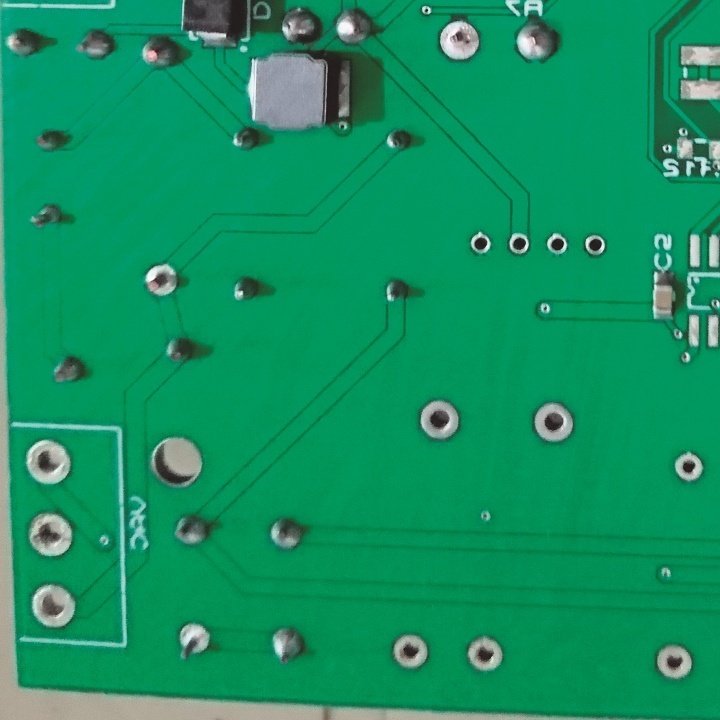F: (22, 435, 78, 492), (27, 578, 81, 633), (24, 509, 78, 561), (528, 398, 578, 446), (436, 16, 484, 64), (416, 397, 464, 444), (170, 618, 216, 664), (388, 628, 434, 674), (653, 640, 699, 686), (139, 258, 184, 303), (461, 632, 505, 678), (670, 447, 707, 484), (580, 231, 610, 260), (542, 229, 573, 257), (468, 229, 493, 259), (504, 232, 531, 257)
